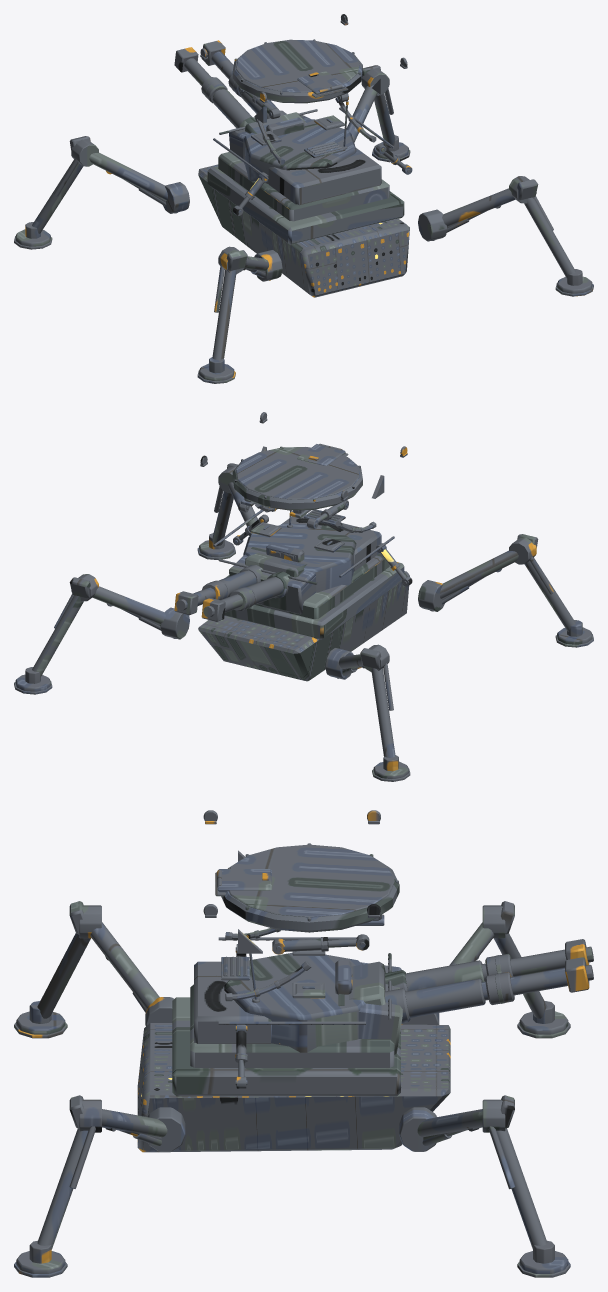
File: BastionSiegeMech_Atlas.fbx
The picture shows the model from 3 angles, top to bottom: view 1: azimuth 30°, elevation 25°; view 2: azimuth 150°, elevation 25°; view 3: azimuth 270°, elevation 25°; orthographic projection. The views are drawn at different scales.
Visible parts, largest first — view 1: BastionSiegeMech_UnifiedMesh; view 2: BastionSiegeMech_UnifiedMesh; view 3: BastionSiegeMech_UnifiedMesh.
Part boxes in pixels (left/top/right/bottom): BastionSiegeMech_UnifiedMesh: left=14, top=14, right=593, bottom=383; BastionSiegeMech_UnifiedMesh: left=14, top=412, right=593, bottom=781; BastionSiegeMech_UnifiedMesh: left=14, top=810, right=593, bottom=1277.
Size of the model in its own units: 545 by 282 by 512.
1 material, 1 textured.
